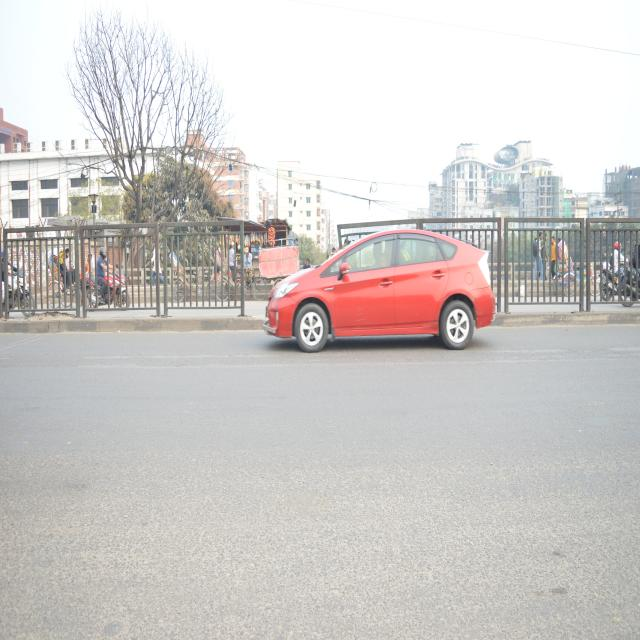car: (267, 226, 494, 351)
motorbike: (84, 268, 134, 307), (597, 262, 633, 299)
